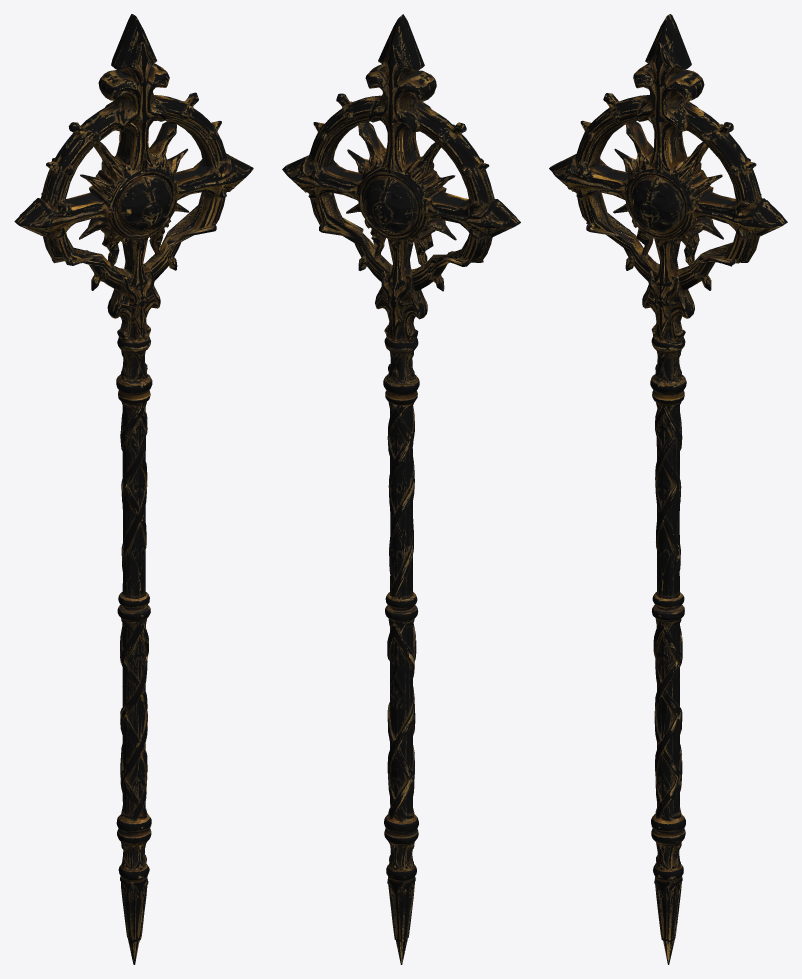
File: staff-black.glb
3 views of the same model, side by side, from view 1: azimuth 30°, elevation 25°; view 2: azimuth 150°, elevation 25°; view 3: azimuth 330°, elevation 25° (orthographic).
Parts seen in each view (by area): view 1: BishopStaff; view 2: BishopStaff; view 3: BishopStaff.
Part boxes in pixels (x1,y1,x2,y2): BishopStaff: (14,14,253,964); BishopStaff: (282,14,520,964); BishopStaff: (549,14,787,964).
Bounding box in the file's own units: 0.6339 × 2.45 × 0.1925.
Materials: 1 (1 with a texture image).
